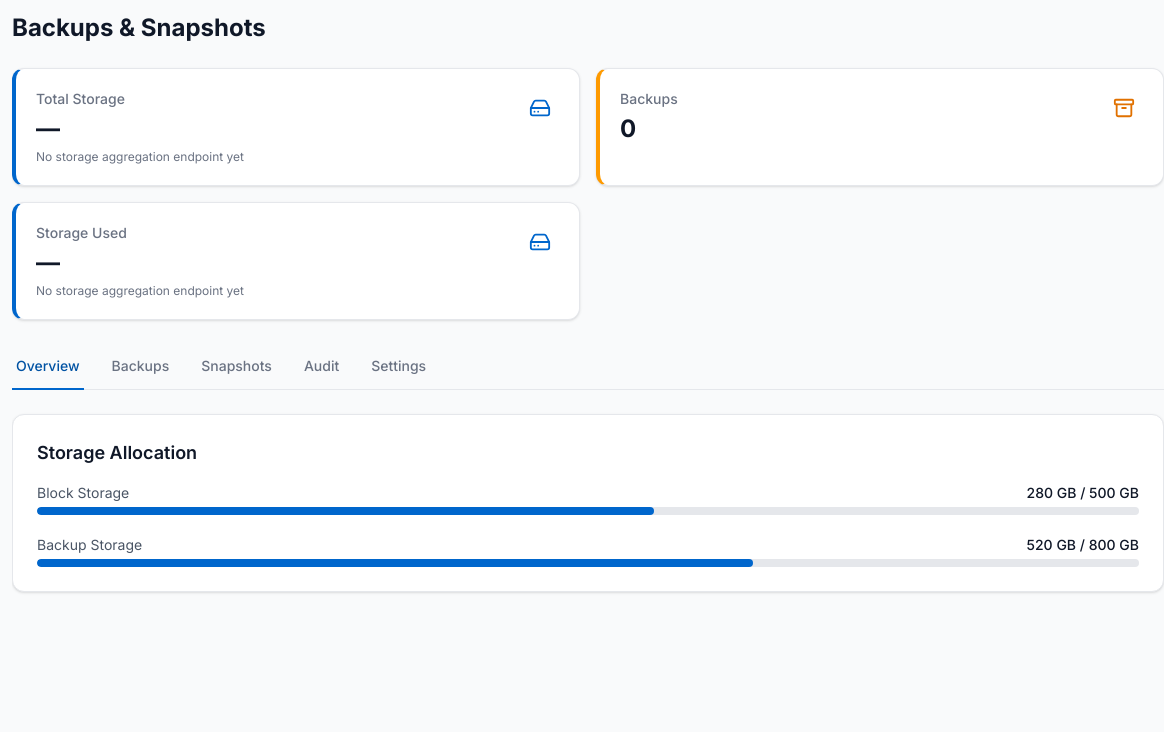
Test: Storage page › switches to Backups tab
Click the button with test id "tab-backups": point(140, 367) left=108, top=344, right=173, bottom=390
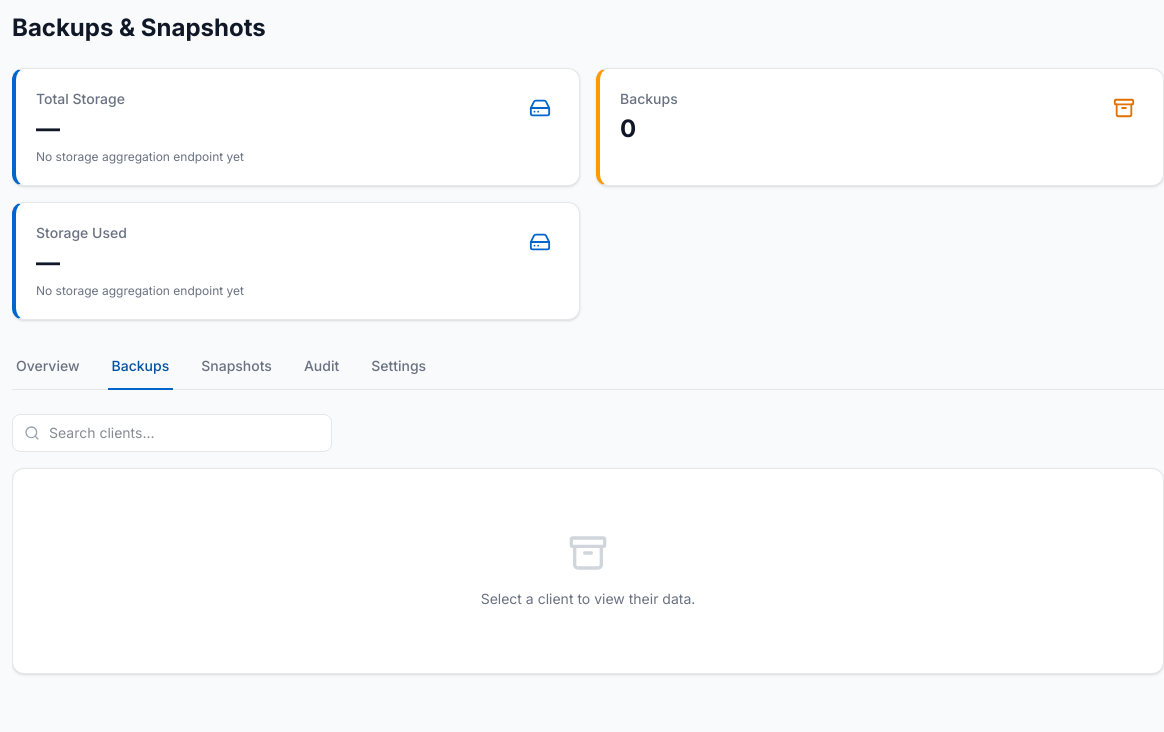
Check: the element with test id "client-search-select" is shown, box left=12, top=414, right=332, bottom=452
